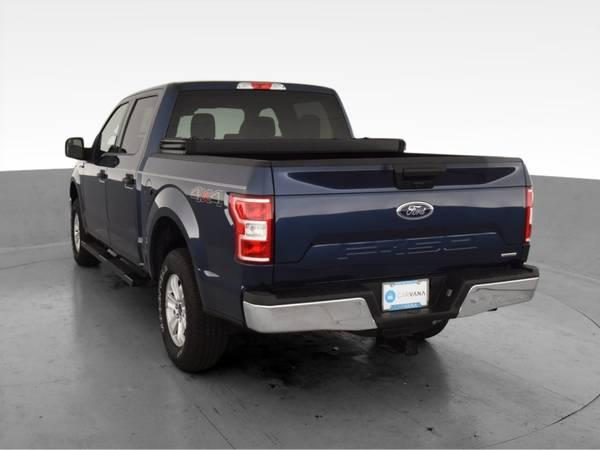Front_Left_Door: (78, 150, 111, 246)
Front_Left_Window: (92, 101, 135, 153)
Left_Taillight: (227, 195, 274, 267)
Rear_Bumper: (239, 262, 539, 335)
Rear_Fender: (137, 157, 272, 326)
Rear_Left_Door: (104, 153, 147, 263)
Rear_Left_Window: (119, 95, 163, 154)
Rear_Windshield: (152, 81, 356, 152)
Roof: (99, 85, 173, 154)
Tailgate: (270, 154, 533, 288)
Wheel: (155, 249, 226, 374), (69, 205, 105, 267)
